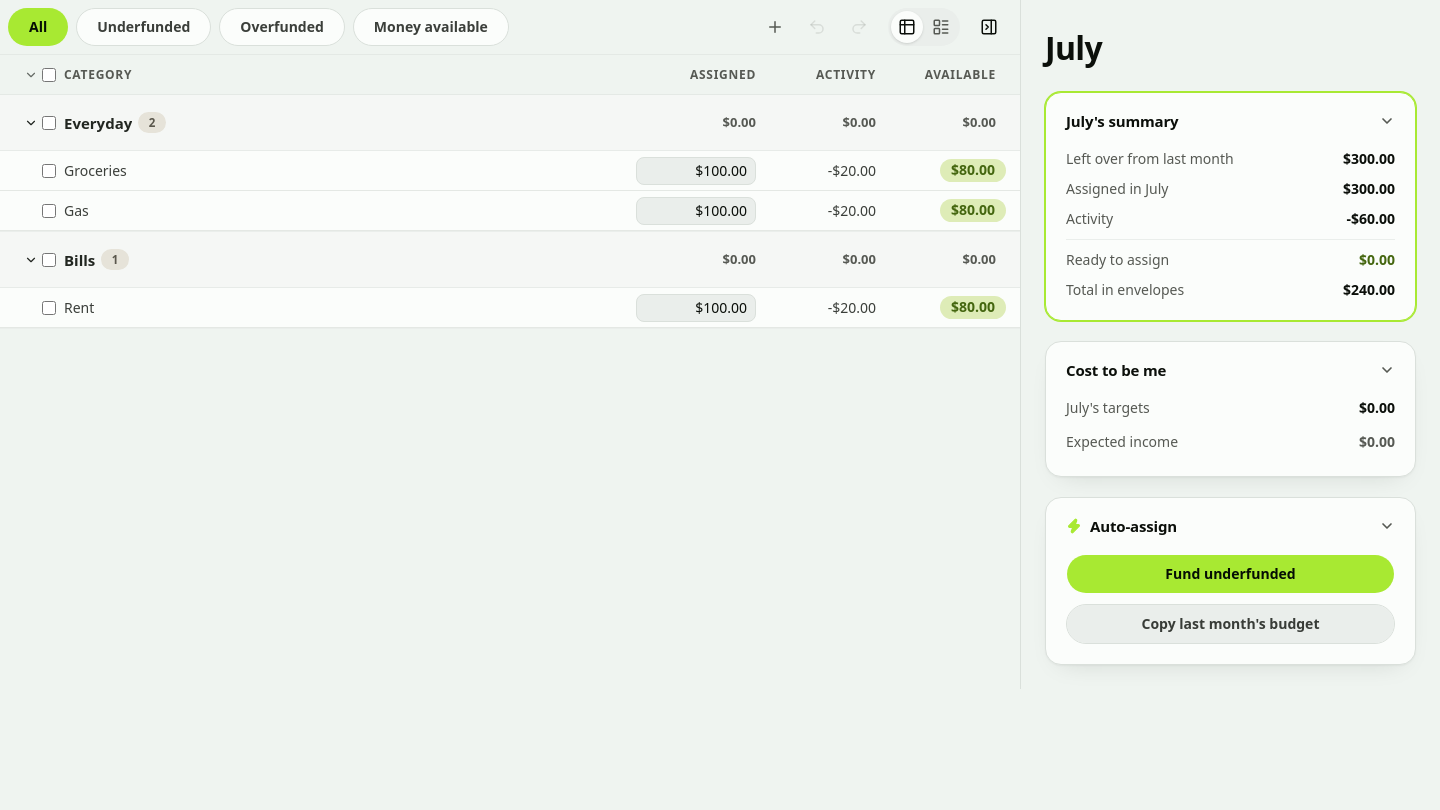
Scenario: BudgetTable view toggle › switches from grid to simple and back, and remembers the choice in a cookie
Click the radio button named "Simple" at coordinates (941, 27), box 925,11 -> 957,43
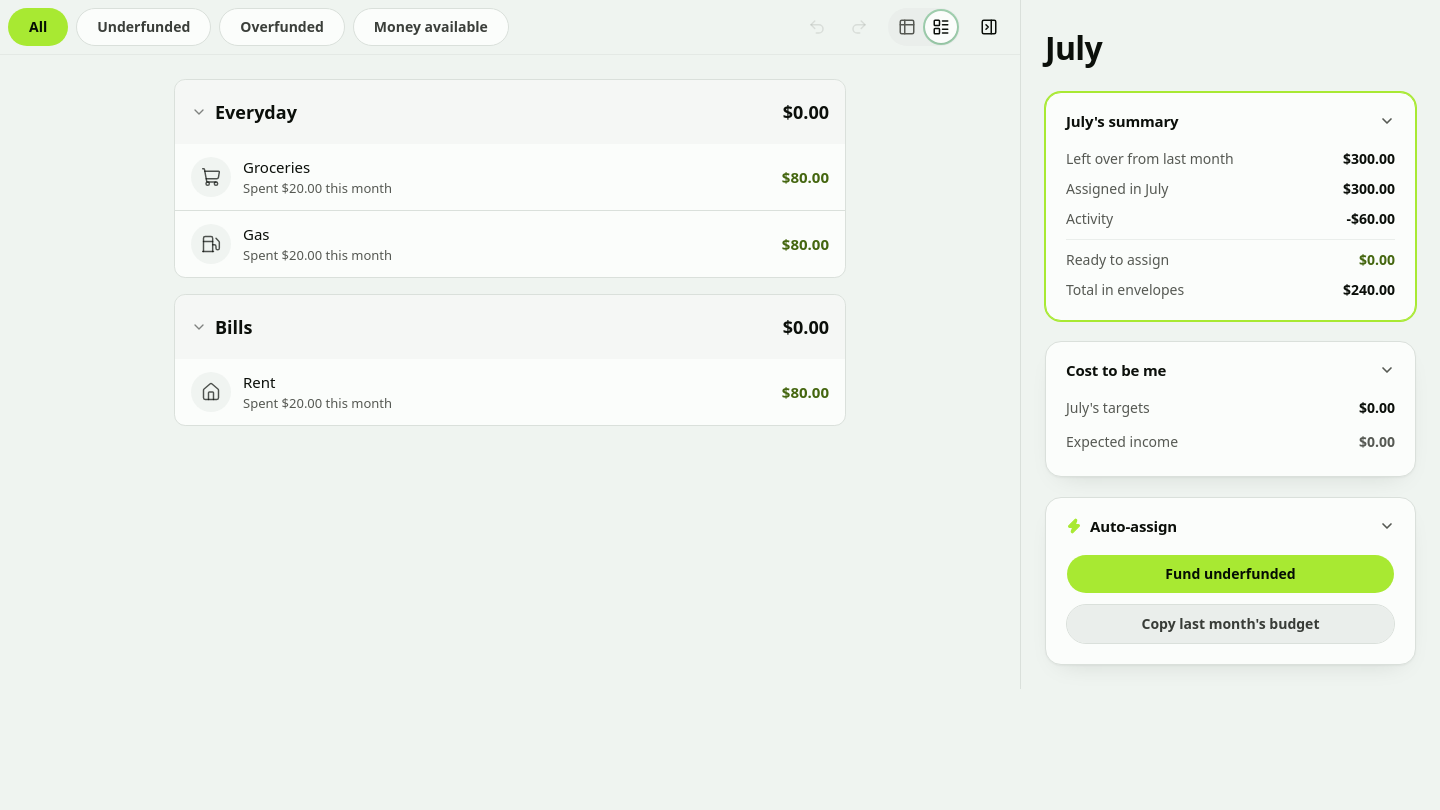
Click the radio button named "Grid" at coordinates (907, 27), box 891,11 -> 923,43
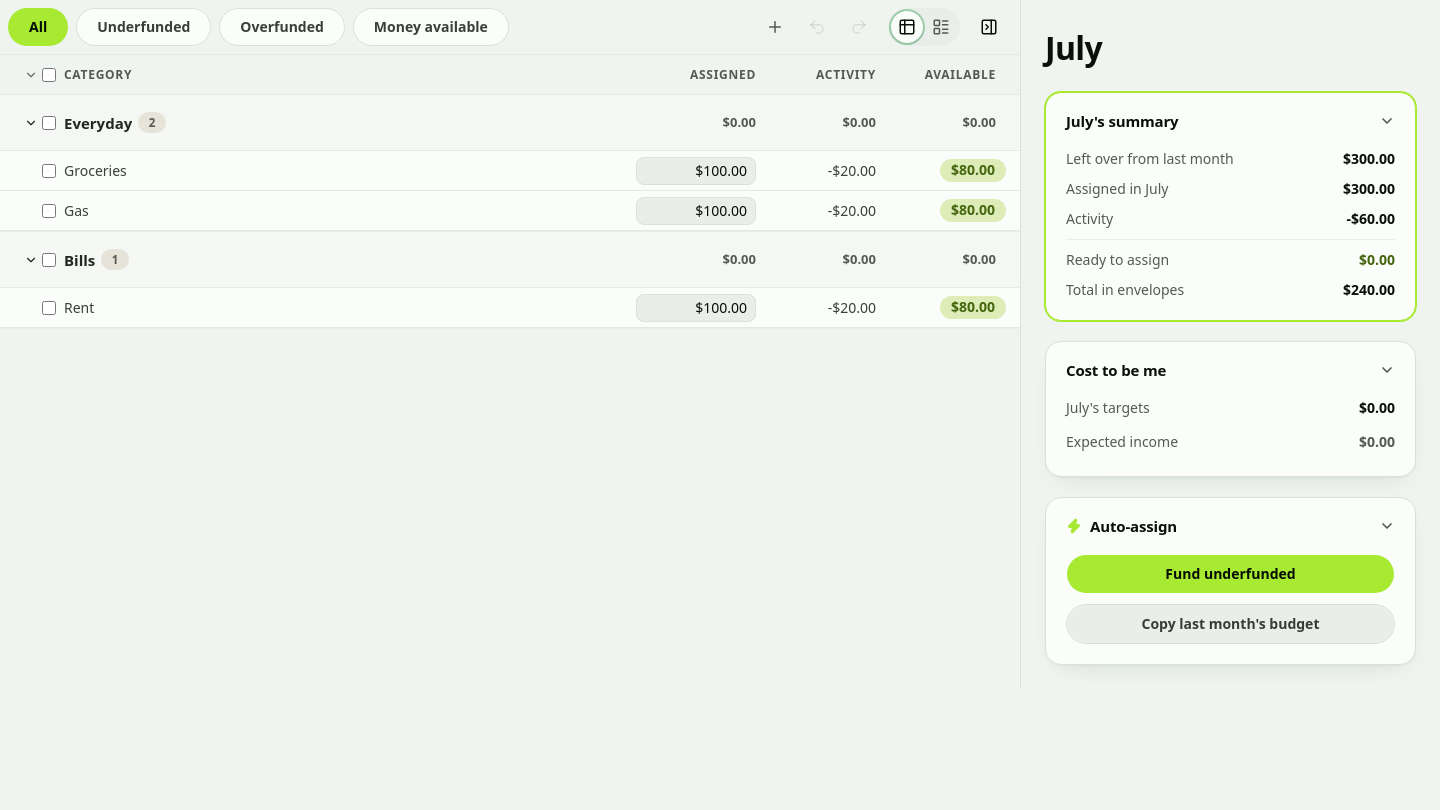
Now the table named "Budget categories" is shown, box 0,55 -> 1020,361
